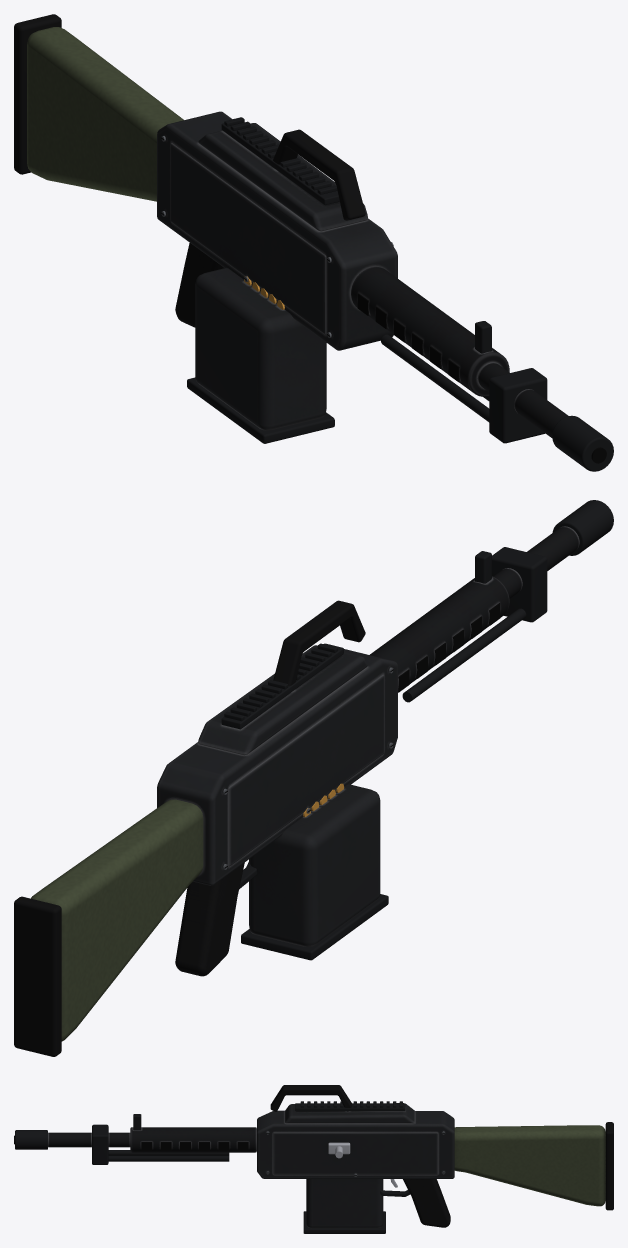
File: BHARI_LMG.fbx
3 views of the same model, one above another, from view 1: azimuth 30°, elevation 25°; view 2: azimuth 150°, elevation 25°; view 3: azimuth 270°, elevation 25° (orthographic). The views are drawn at different scales.
Visible parts, largest first — view 1: BHARI_LMG_LOD0, Mag_LOD0; view 2: BHARI_LMG_LOD0, Mag_LOD0; view 3: BHARI_LMG_LOD0, Mag_LOD0, Bolt_LOD0.
Part boxes in pixels (bbox=[...]): BHARI_LMG_LOD0: bbox=[14, 14, 613, 471]; Mag_LOD0: bbox=[187, 267, 334, 443]; BHARI_LMG_LOD0: bbox=[14, 500, 613, 1056]; Mag_LOD0: bbox=[241, 783, 388, 960]; BHARI_LMG_LOD0: bbox=[14, 1085, 613, 1227]; Mag_LOD0: bbox=[303, 1179, 385, 1233]; Bolt_LOD0: bbox=[328, 1142, 350, 1158].
Size of what is drawn, in the model's own units: 0.135 by 0.2917 by 1.09.
